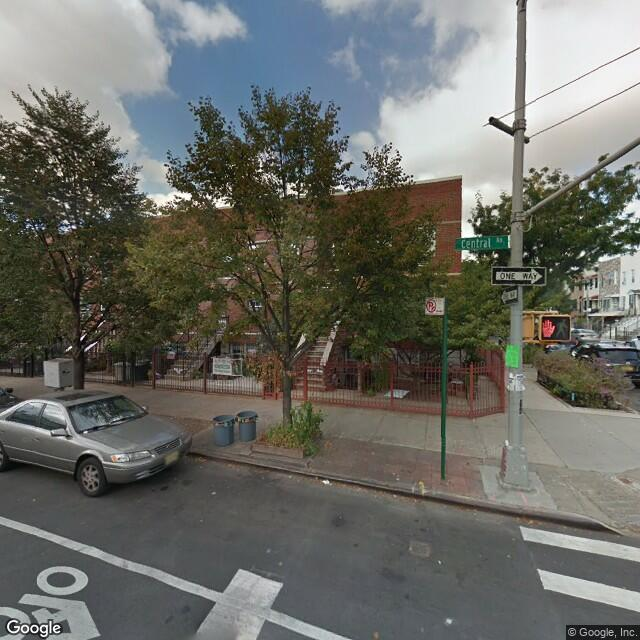litter: (313, 471, 338, 491), (205, 485, 229, 503), (432, 556, 453, 565)
